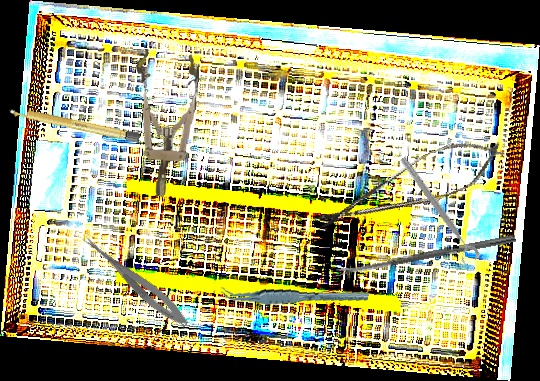Fixation Ring: (391, 154, 482, 268)
Micro Scissor: (305, 124, 515, 249), (76, 231, 193, 332)
Scalpel Handle: (7, 105, 141, 143)
Speculum: (127, 48, 201, 199)
Surgical Spoon: (335, 233, 517, 277)
Tissue Forceps: (219, 274, 370, 318)
